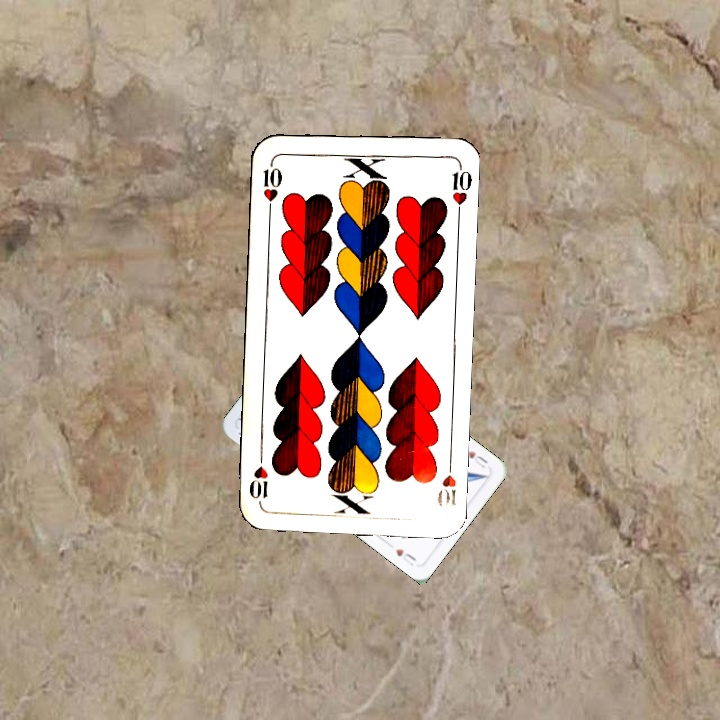H10: (259, 156, 285, 215), (433, 453, 459, 509)
HU: (464, 446, 490, 471)
